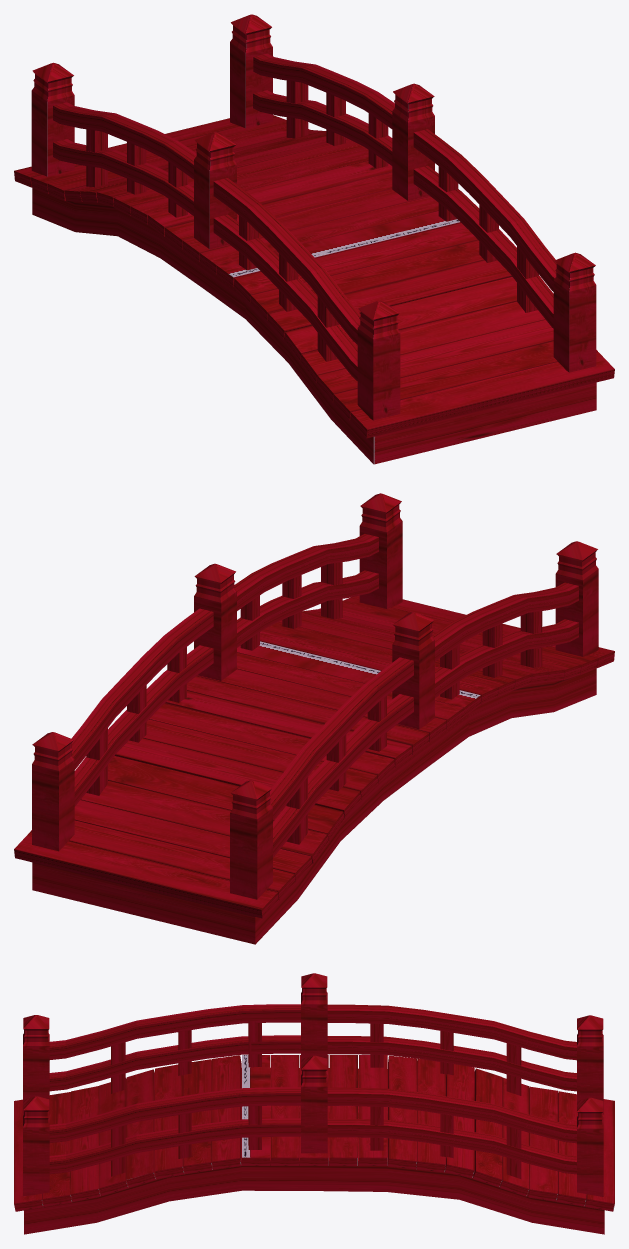
Rendered from bridge7.glb.
3 views of the same model, one above another, from view 1: azimuth 30°, elevation 25°; view 2: azimuth 150°, elevation 25°; view 3: azimuth 270°, elevation 25° (orthographic). The views are drawn at different scales.
Visible parts, largest first — view 1: Cube, Cube.005, Cube.002, Cube.004, Cube.007, Cube.006, Cube.003, Cube.001, Cube.019, Cube.013, Cube.022, Cube.016 (+2 smaller); view 2: Cube, Cube.005, Cube.006, Cube.007, Cube.004, Cube.003, Cube.002, Cube.001, Cube.016, Cube.022, Cube.015, Cube.019 (+2 smaller); view 3: Cube, Cube.005, Cube.004, Cube.003, Cube.007, Cube.001, Cube.006, Cube.002, Cube.013, Cube.019, Cube.016, Cube.022 (+8 smaller).
Part boxes in pixels (x1,y1,x2,y2): Cube: [14, 115, 614, 464]; Cube.005: [53, 53, 394, 215]; Cube.002: [357, 300, 400, 420]; Cube.004: [553, 252, 596, 372]; Cube.007: [230, 14, 272, 128]; Cube.006: [31, 62, 74, 176]; Cube.003: [392, 83, 434, 200]; Cube.001: [194, 132, 236, 249]; Cube.019: [286, 80, 308, 138]; Cube.013: [86, 129, 107, 187]; Cube.022: [517, 246, 538, 312]; Cube.016: [317, 296, 339, 361]; Cube: [14, 534, 614, 944]; Cube.005: [71, 608, 413, 857]; Cube.006: [230, 780, 272, 899]; Cube.007: [32, 732, 74, 851]; Cube.004: [359, 493, 402, 608]; Cube.003: [194, 563, 236, 680]; Cube.002: [555, 541, 598, 656]; Cube.001: [392, 612, 434, 729]; Cube.016: [520, 611, 542, 667]; Cube.022: [321, 562, 342, 619]; Cube.015: [482, 624, 502, 677]; Cube.019: [86, 728, 107, 795]; Cube: [14, 1004, 614, 1234]; Cube.005: [327, 1004, 576, 1174]; Cube.004: [23, 1096, 49, 1195]; Cube.003: [301, 1055, 327, 1153]; Cube.007: [577, 1097, 603, 1196]; Cube.001: [301, 973, 327, 1070]; Cube.006: [577, 1015, 603, 1114]; Cube.002: [23, 1015, 49, 1114]; Cube.013: [506, 1043, 521, 1095]; Cube.019: [506, 1126, 521, 1178]; Cube.016: [111, 1042, 125, 1093]; Cube.022: [111, 1125, 125, 1176].
Bounding box in the file's own units: 2.51 × 1.98 × 6.21.
Materials: 20 (20 with a texture image).
